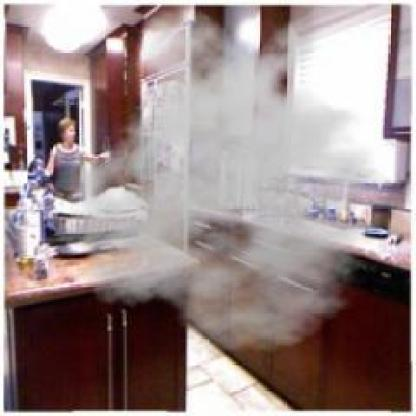Smoke: (47, 6, 414, 356)
